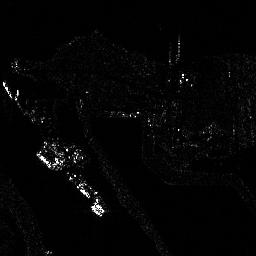ship: (33, 149, 61, 172)
